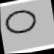no answer: (2, 5, 42, 39)
